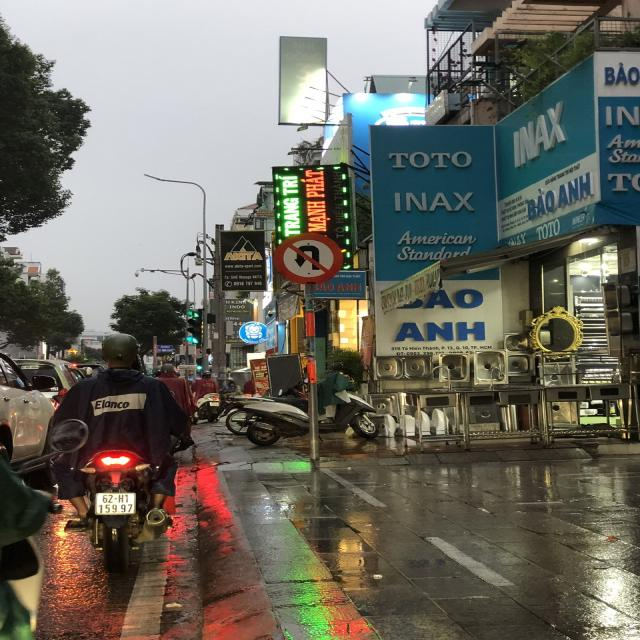Bien bao cam quay dau xe: (271, 231, 348, 288)
